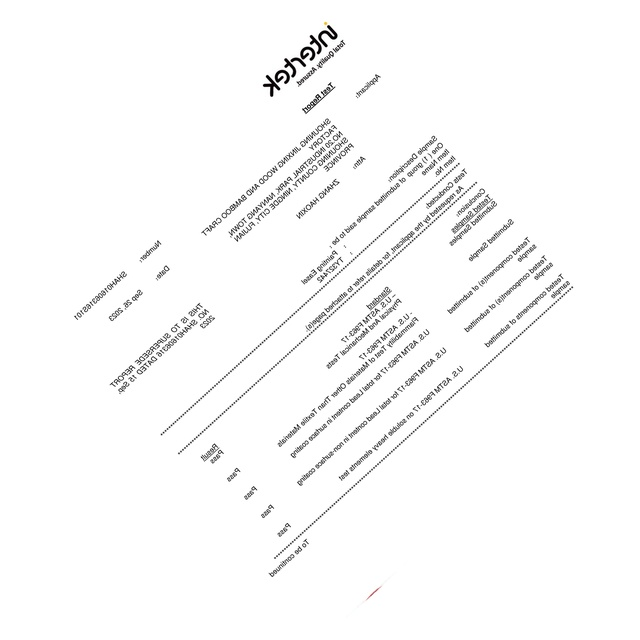intertek: (260, 19, 344, 99)
